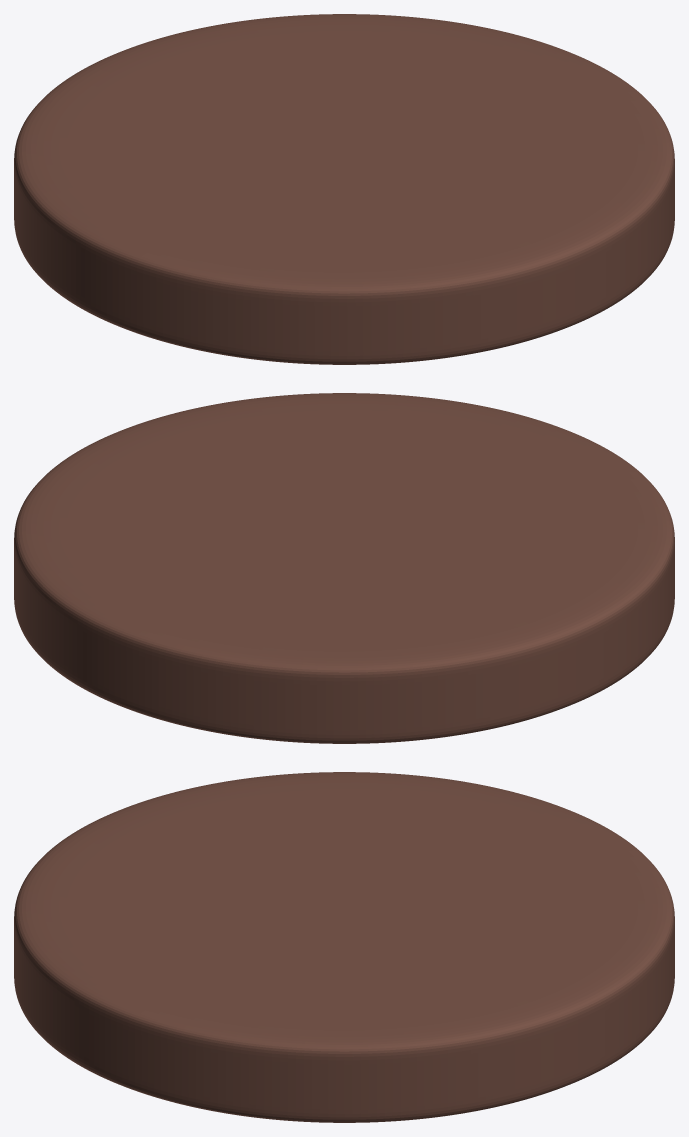
Rendered from gateau-chocolat-non-cuit.fbx.
3 views of the same model, one above another, from view 1: azimuth 30°, elevation 25°; view 2: azimuth 150°, elevation 25°; view 3: azimuth 270°, elevation 25° (orthographic).
Parts seen in each view (by area): view 1: genoise_2; view 2: genoise_2; view 3: genoise_2.
Boxes of the visible parts, left/top/right/bottom form: genoise_2: left=14, top=14, right=674, bottom=364; genoise_2: left=14, top=393, right=674, bottom=743; genoise_2: left=14, top=772, right=674, bottom=1122.
Size of the model in its own units: 199 by 27.18 by 199.
